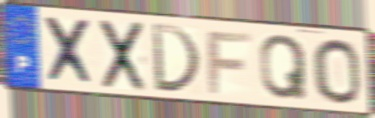D: (149, 21, 203, 96)
F: (205, 29, 254, 96)
O: (310, 36, 363, 106)
Q: (259, 32, 310, 102)
X: (41, 14, 98, 88), (99, 18, 147, 94)
